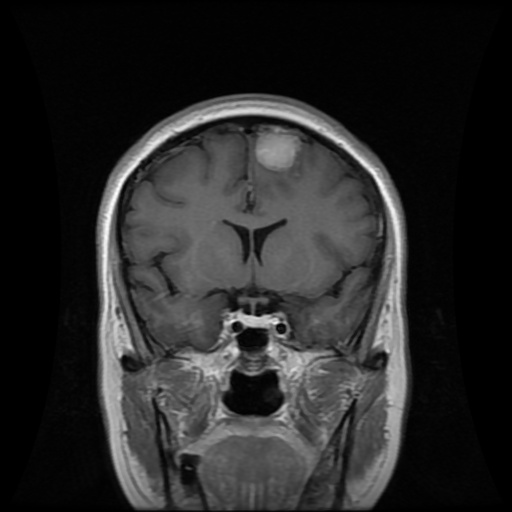meningioma: (256, 125, 302, 170)
